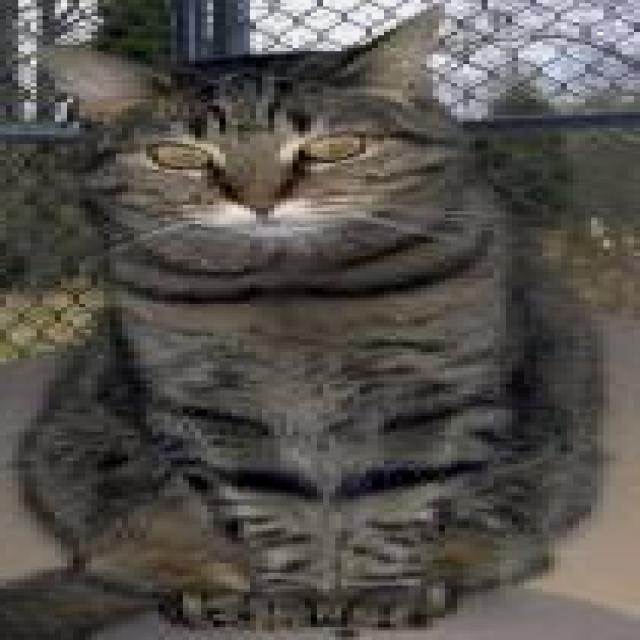Kucing: (35, 20, 616, 628)
